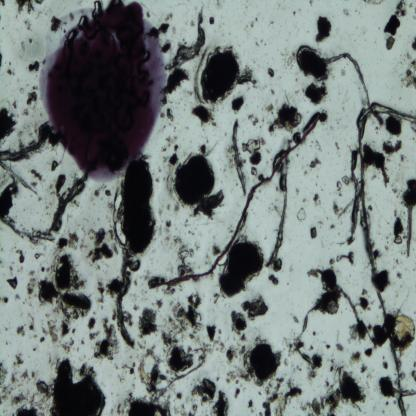Background material: (166, 139, 224, 218), (118, 160, 164, 256), (31, 257, 93, 322), (296, 265, 354, 332), (196, 46, 258, 104), (50, 358, 106, 416), (217, 240, 268, 301), (225, 336, 282, 389), (309, 366, 365, 414), (161, 292, 203, 344), (260, 372, 304, 416), (136, 341, 168, 397), (39, 316, 77, 354), (285, 335, 322, 374), (116, 390, 173, 415), (0, 352, 29, 401), (193, 378, 230, 416), (83, 222, 115, 262), (169, 234, 198, 278), (382, 0, 407, 50), (384, 314, 416, 352), (401, 179, 416, 259), (362, 145, 390, 187), (94, 317, 119, 363), (92, 269, 122, 307), (297, 46, 327, 84), (269, 104, 305, 133), (356, 319, 388, 350), (165, 344, 194, 376), (238, 294, 270, 323), (10, 392, 47, 415), (203, 320, 226, 354), (191, 100, 218, 128), (165, 68, 189, 99), (243, 137, 260, 178), (139, 304, 159, 338), (302, 79, 327, 104), (0, 106, 16, 142), (378, 374, 398, 402), (22, 266, 38, 300), (328, 249, 355, 269), (229, 309, 248, 337), (315, 15, 332, 45), (400, 56, 416, 87), (175, 387, 192, 416), (54, 232, 78, 252), (372, 267, 391, 292), (92, 185, 114, 206), (383, 114, 402, 138), (14, 0, 44, 15), (286, 44, 302, 72), (354, 287, 372, 311), (382, 136, 402, 157), (36, 379, 56, 398), (391, 214, 403, 245), (88, 314, 100, 340), (121, 358, 136, 378), (338, 176, 351, 198), (48, 15, 62, 34), (163, 104, 175, 126), (27, 60, 40, 79), (25, 91, 39, 108), (231, 96, 245, 113), (296, 204, 307, 224), (164, 218, 175, 237), (27, 314, 37, 334), (2, 64, 17, 77), (30, 166, 42, 182), (312, 189, 322, 208), (331, 198, 342, 215), (15, 247, 25, 264), (267, 273, 280, 286), (8, 276, 19, 291), (211, 242, 221, 258), (265, 65, 276, 79), (309, 224, 318, 241), (309, 155, 319, 170), (341, 7, 352, 20), (0, 291, 9, 306), (379, 358, 390, 370), (351, 352, 362, 364), (363, 0, 385, 6), (335, 341, 344, 355), (329, 359, 338, 373), (363, 346, 371, 360), (15, 324, 25, 335), (208, 12, 216, 25), (410, 34, 416, 50), (233, 387, 241, 399), (246, 399, 254, 410), (213, 293, 220, 305), (412, 361, 416, 380), (367, 203, 376, 211), (37, 335, 46, 343), (334, 142, 340, 153), (0, 50, 3, 70), (0, 0, 8, 6), (27, 39, 32, 44)
Cellulose filter fibre: (353, 102, 416, 414), (16, 174, 88, 244), (265, 161, 291, 269), (324, 50, 371, 106), (0, 126, 57, 168), (168, 6, 205, 69), (118, 244, 136, 347), (347, 146, 360, 244), (231, 120, 247, 195)
Cotton: (150, 114, 320, 289)
Pen: (41, 0, 164, 184)
